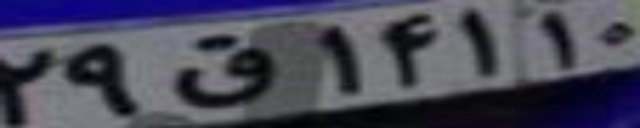0: (593, 20, 636, 50)
1: (314, 25, 360, 94), (455, 9, 496, 74), (534, 11, 576, 67)
2: (2, 49, 50, 126)
4: (384, 13, 437, 87)
9: (65, 43, 140, 115)
ghaf: (171, 34, 278, 107)
